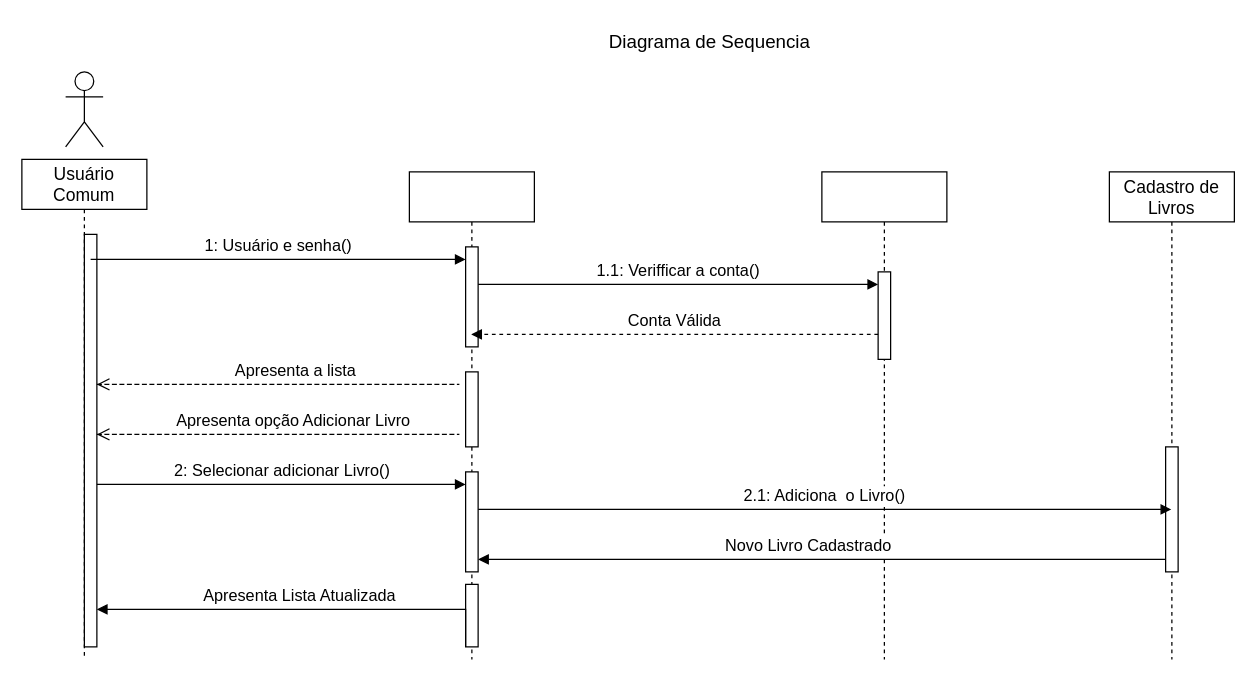
Some shapes in this 1256 by 681 pixel diagram are drawn without their labels. Each missing label, with the box of its shape:
Conta: (821, 171, 947, 659)
Interface: (408, 171, 534, 659)
